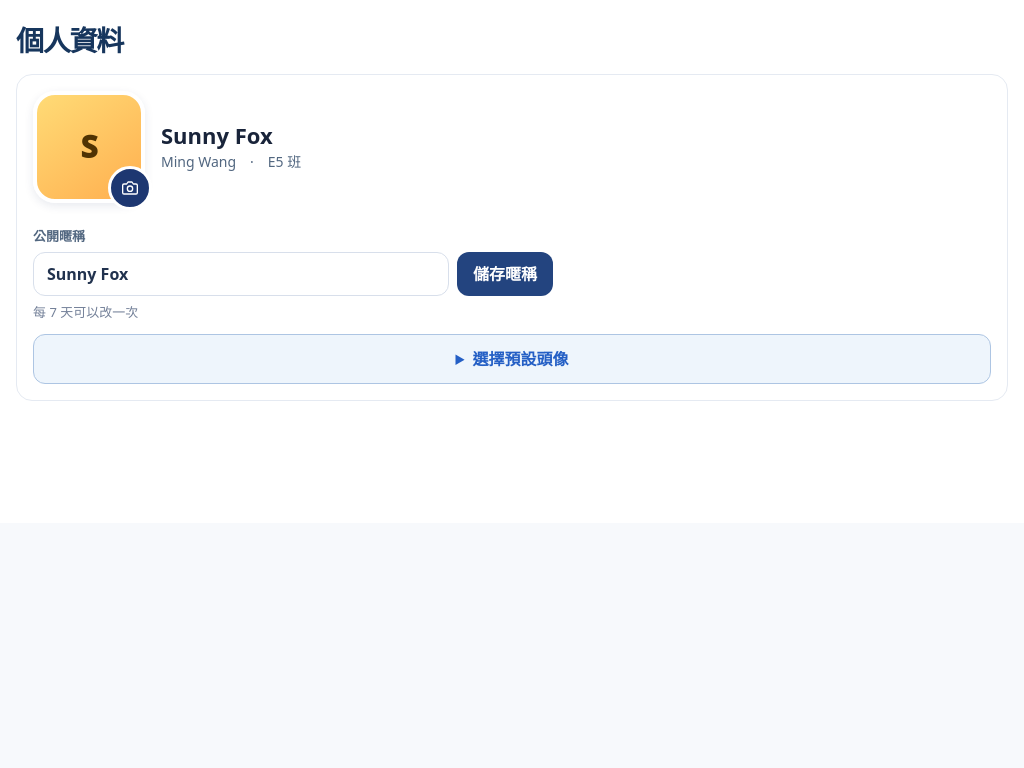
Test: StudentSettings › allows the student to change a nickname after confirming
The width and height of the screenshot is (1024, 768).
Expected: the element labelled "公開暱稱" is shown, [16,74,1008,401]
Expected: the text "每 7 天可以改一次" is shown, [33,303,138,321]
Replace the text in the field labelled "公開暱稱" with "Brave Owl": x=241, y=274 [33,252,449,296]
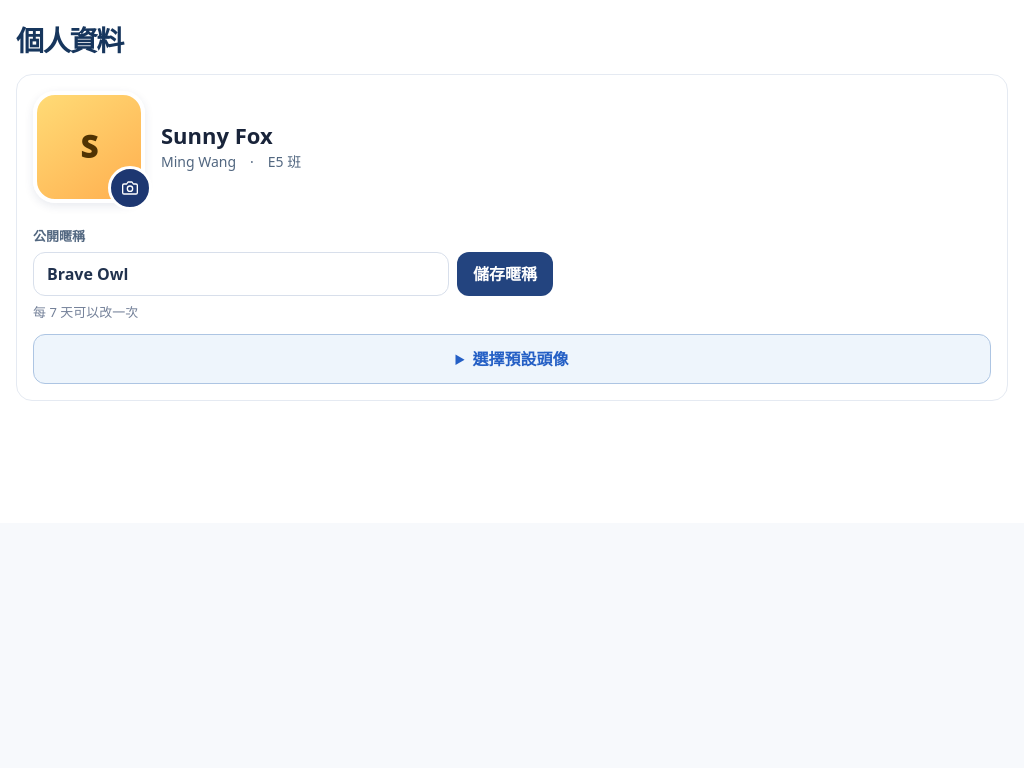
Click the button "儲存暱稱": x=505, y=274 [457,252,553,296]
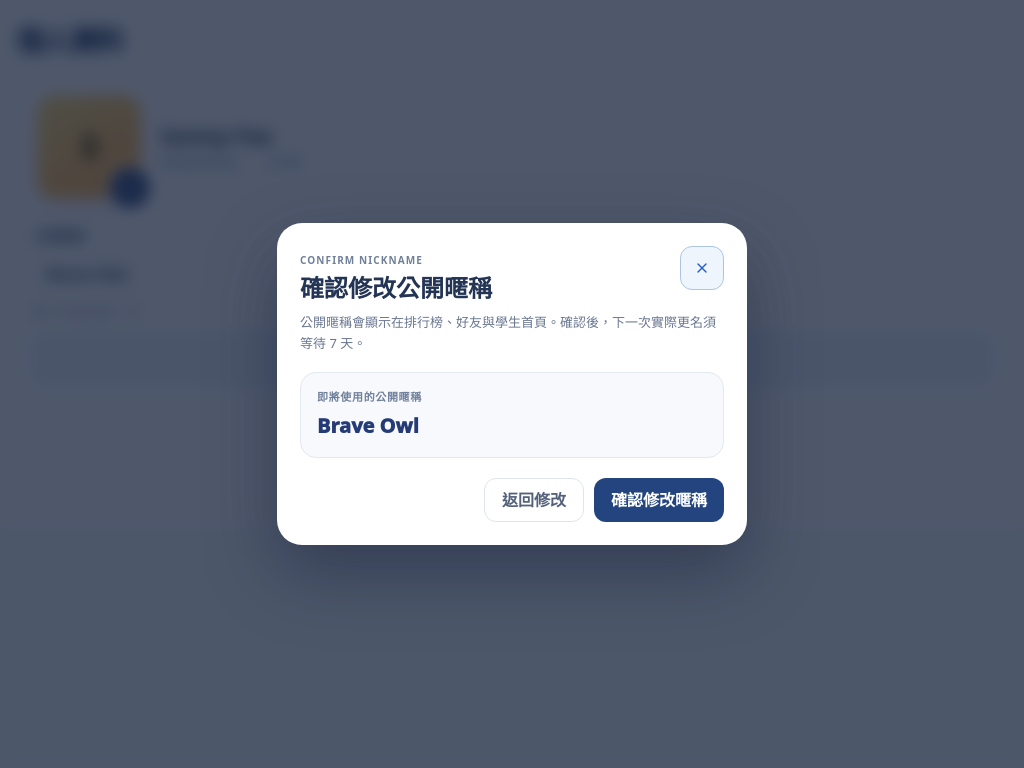
Now the dialog "確認修改公開暱稱" is shown, box [277,223,747,545]
Click the button "確認修改暱稱": x=659, y=500 [594,478,724,522]
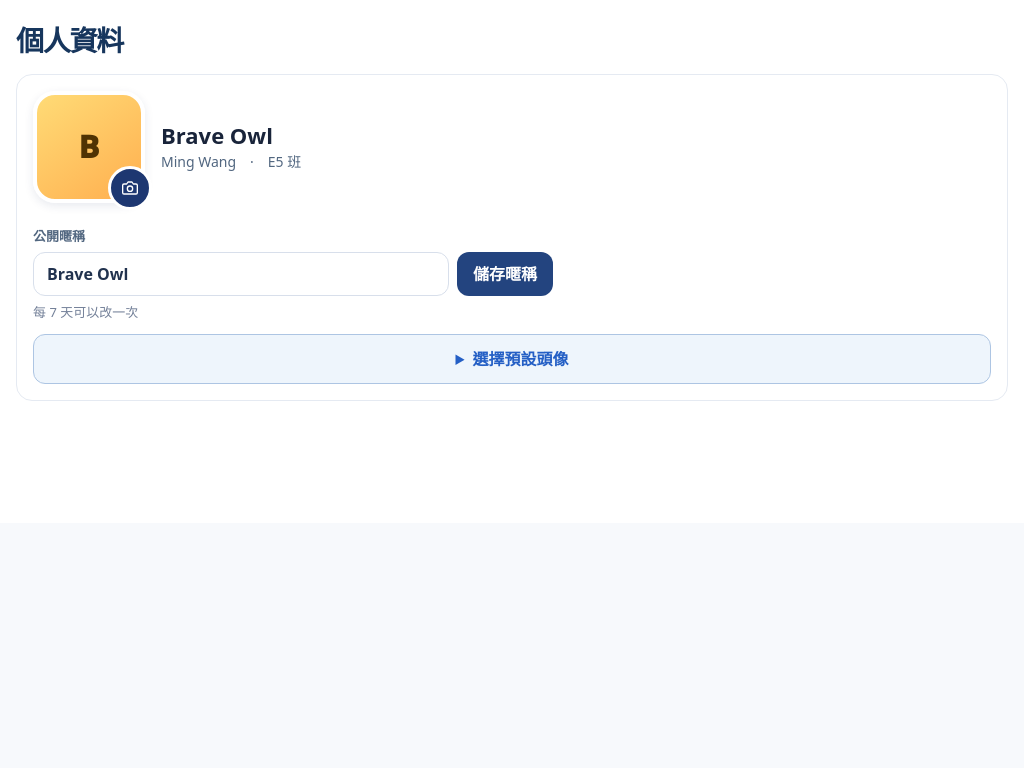
Now the heading "Brave Owl" is shown, box [161,120,273,150]
